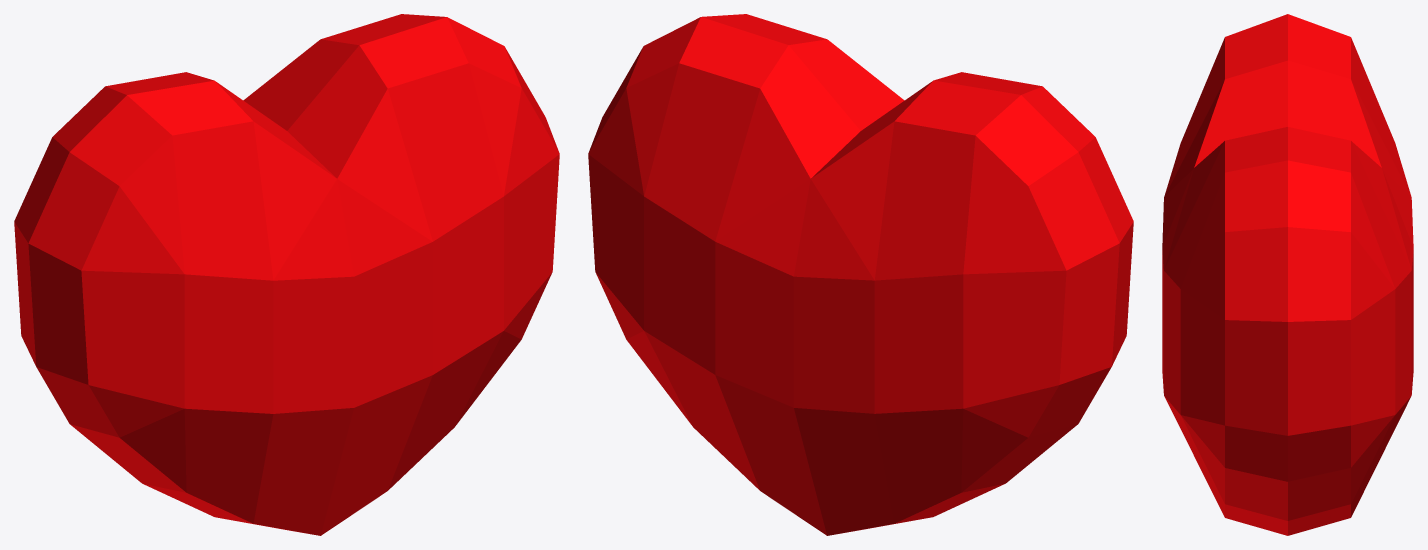
The model's file is spinning-heart.glb.
3 renders of one model, left to right at view 1: azimuth 30°, elevation 25°; view 2: azimuth 150°, elevation 25°; view 3: azimuth 270°, elevation 25°, orthographic. The views are drawn at different scales.
Visible parts, largest first — view 1: Mesh_Default_0; view 2: Mesh_Default_0; view 3: Mesh_Default_0.
Boxes of the visible parts, x1,y1,x2,y2 form: Mesh_Default_0: [14, 14, 559, 535]; Mesh_Default_0: [588, 14, 1133, 535]; Mesh_Default_0: [1162, 14, 1413, 535].
Size of the model in its own units: 5.95 by 5.21 by 2.67.
